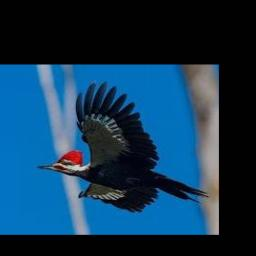Woodpecker: (38, 80, 209, 212)
